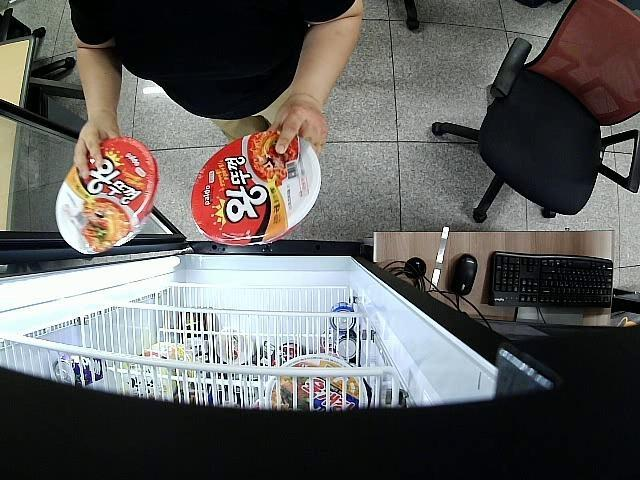10_wangTtukkeong: (191, 132, 323, 246), (54, 139, 160, 254)
